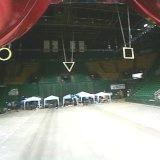Yellow_Circle_GShape: (0, 48, 12, 61)
Yellow_Square_GShape: (123, 48, 134, 59)
Yellow_Triangle_Gshape: (64, 61, 74, 72)
